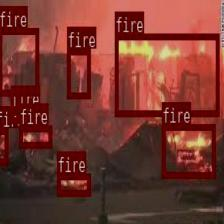fire: (114, 32, 219, 116), (162, 124, 214, 177), (0, 28, 38, 94), (67, 48, 90, 98), (57, 173, 90, 195), (19, 125, 51, 146), (0, 127, 8, 164), (10, 106, 21, 122)
